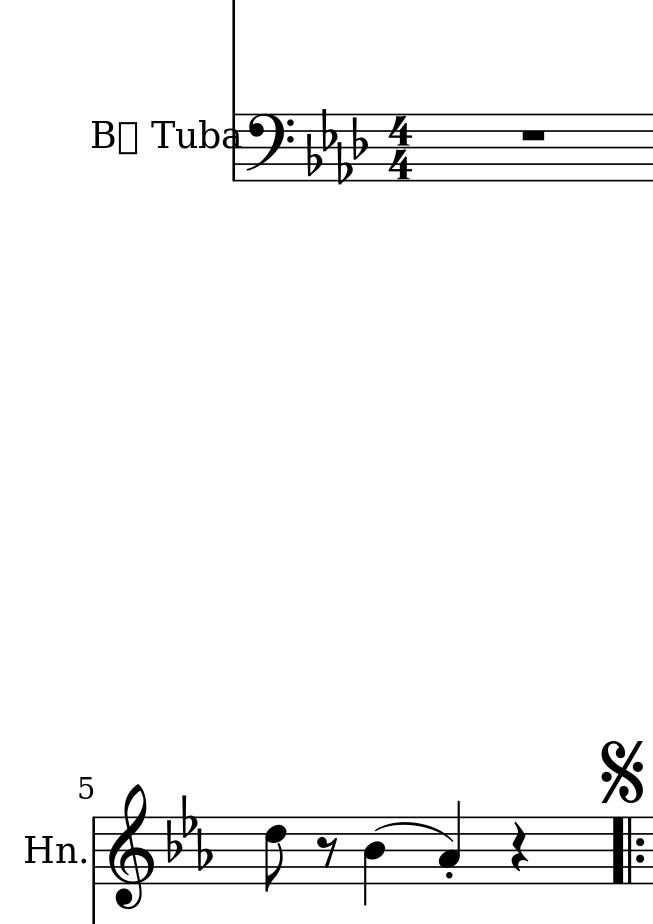4: (385, 146, 419, 181), (388, 112, 417, 148)
4_3: (438, 802, 462, 885)
4_4: (362, 815, 386, 905)
5: (77, 773, 97, 801)
8_6: (263, 816, 289, 892)
A_F: (306, 108, 368, 184)
E_F: (165, 791, 213, 871)
Fclef: (244, 112, 294, 183)
Gclef: (108, 782, 154, 910)
Hn: (26, 832, 77, 869)
LeftRepeatSign: (609, 816, 648, 884)
Rests1: (517, 126, 549, 144)
Rests4: (508, 821, 530, 875)
Rests8: (316, 835, 339, 869)
Segno: (597, 736, 646, 806)
Single_barline: (228, 112, 243, 183), (87, 815, 101, 884)
Slur: (373, 821, 454, 844)
TimeSig: (387, 114, 414, 180)
